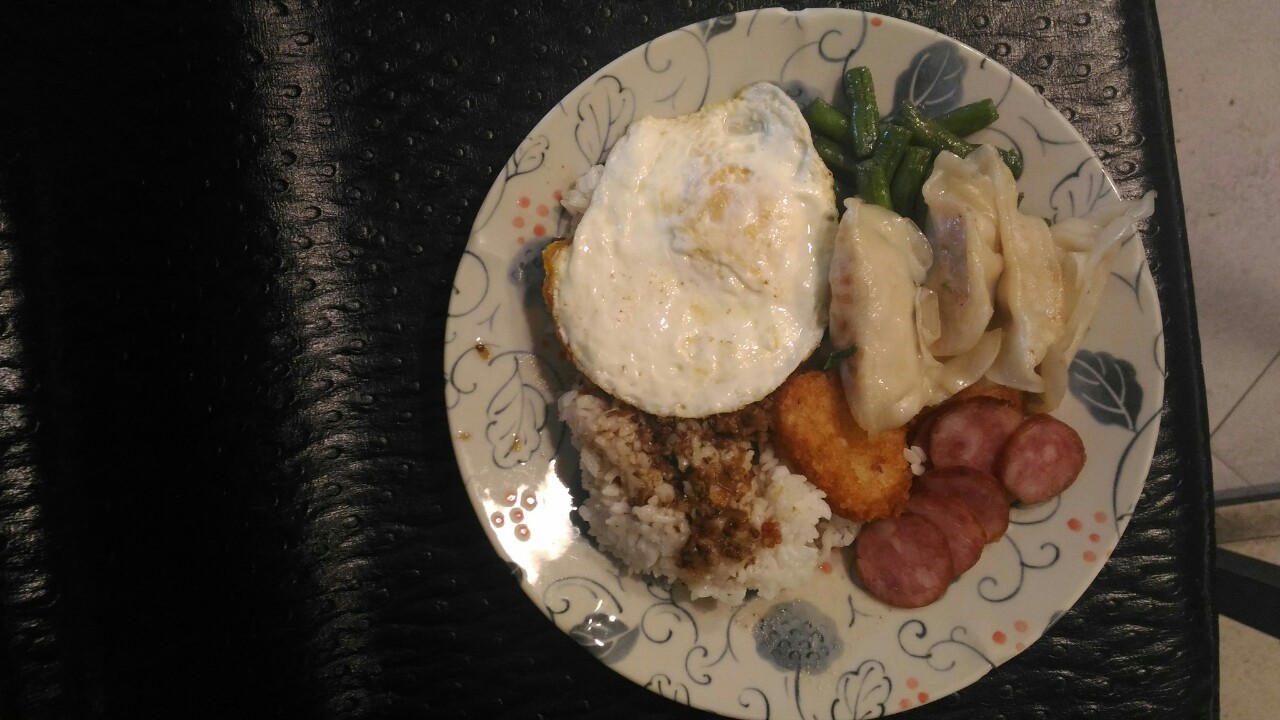chinese_sausage: (861, 391, 1085, 609)
fried_dumplings: (819, 152, 1148, 433)
fried_eggs: (552, 82, 837, 420)
rice: (558, 414, 834, 601)
triangle_hash_brown: (772, 370, 916, 520)
